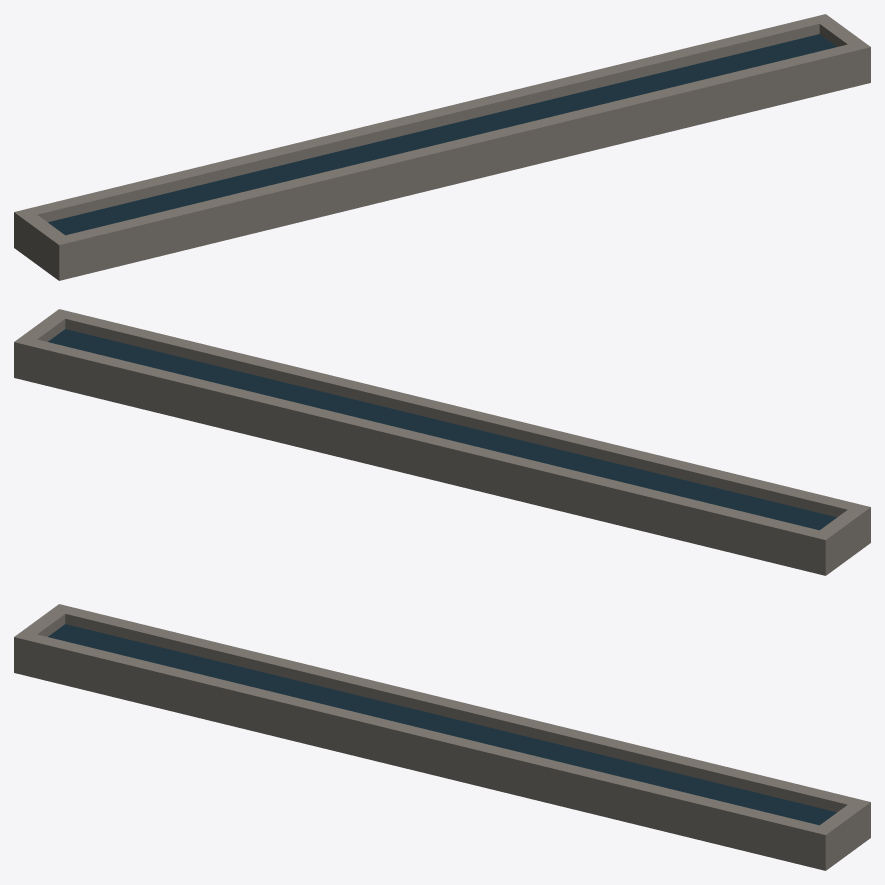
File: gutter.obj
3 renders of one model, top to bottom at view 1: azimuth 30°, elevation 25°; view 2: azimuth 150°, elevation 25°; view 3: azimuth 330°, elevation 25°, orthographic.
Parts seen in each view (by area): view 1: Water; view 2: Water; view 3: Water.
Part boxes in pixels (box(x1,y1,x2,y2)): Water: box(14, 14, 870, 280); Water: box(14, 309, 870, 575); Water: box(14, 604, 870, 870).
Size of the model in its own units: 8.3 by 0.35 by 0.8.
